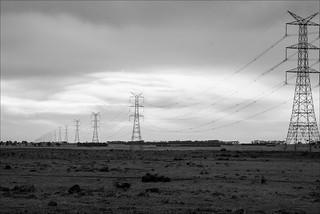power_tower: (282, 9, 320, 153), (124, 89, 148, 144), (89, 111, 106, 147), (70, 117, 85, 145)
